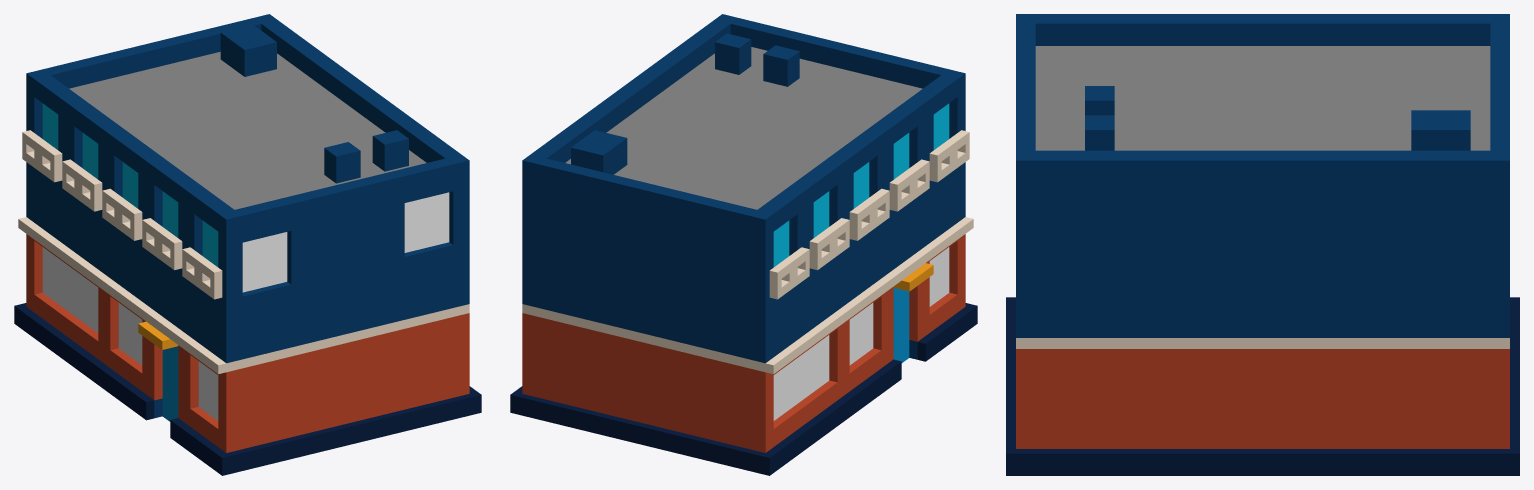
The model's file is shop.glb.
The picture shows the model from 3 angles, left to right: view 1: azimuth 30°, elevation 25°; view 2: azimuth 150°, elevation 25°; view 3: azimuth 270°, elevation 25°; orthographic projection. The views are drawn at different scales.
Parts seen in each view (by area): view 1: House01; view 2: House01; view 3: House01.
Part boxes in pixels (<box>): House01: <box>14,14,481,475</box>; House01: <box>510,14,977,475</box>; House01: <box>1006,14,1519,475</box>.
Size of the model in its own units: 4.21 by 3.92 by 5.67.
Materials: 1 (1 with a texture image).
